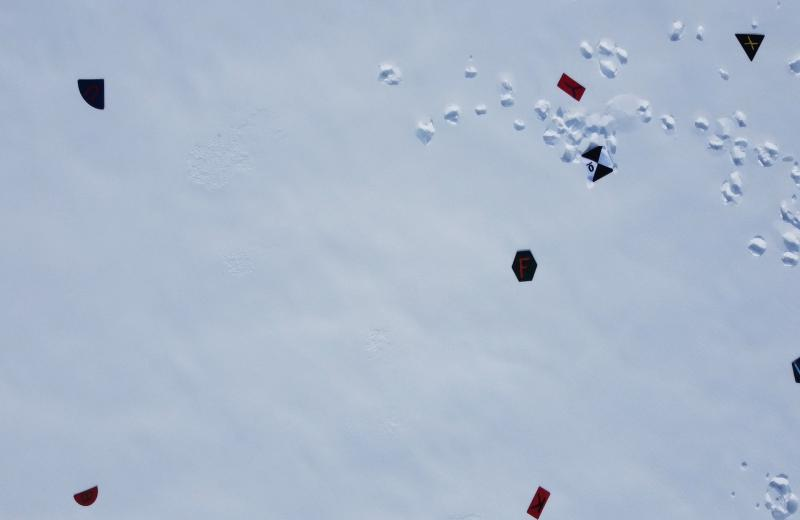Hexagon: (510, 247, 538, 283)
Quarter Circle: (74, 75, 109, 114)
Rectangle: (522, 485, 555, 518), (556, 70, 587, 104)
Semi Circle: (73, 486, 99, 509)
Triangle: (734, 31, 766, 64)
